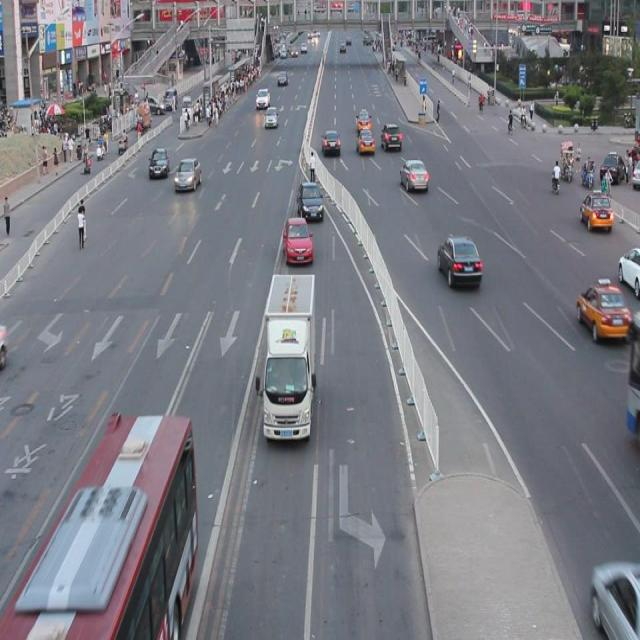bus: (261, 272, 316, 438)
car: (576, 281, 630, 339), (438, 234, 481, 289), (282, 216, 312, 264), (579, 192, 612, 230), (616, 245, 640, 293), (297, 182, 323, 220), (173, 157, 201, 190), (400, 159, 428, 191)
van: (0, 413, 198, 640)
